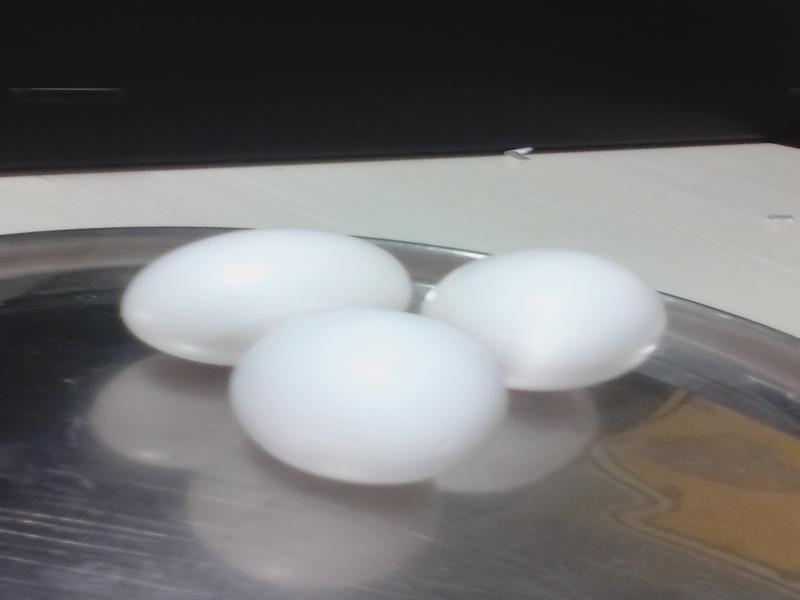egg: (432, 251, 664, 392)
